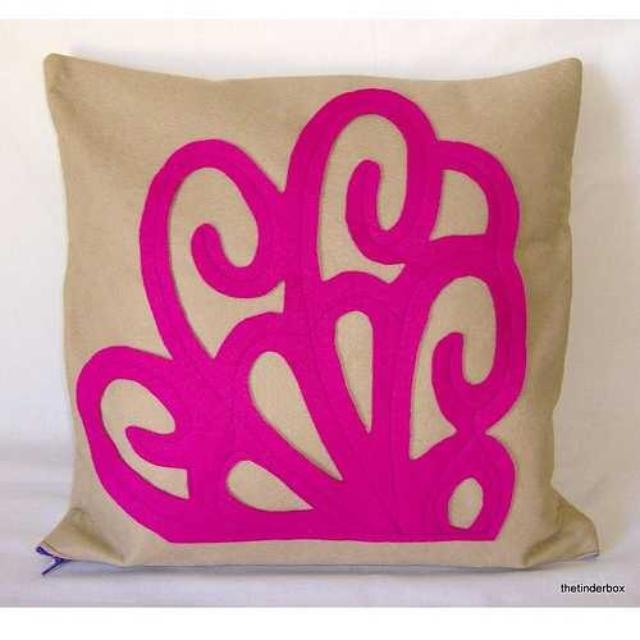pillow: (36, 50, 598, 570)
